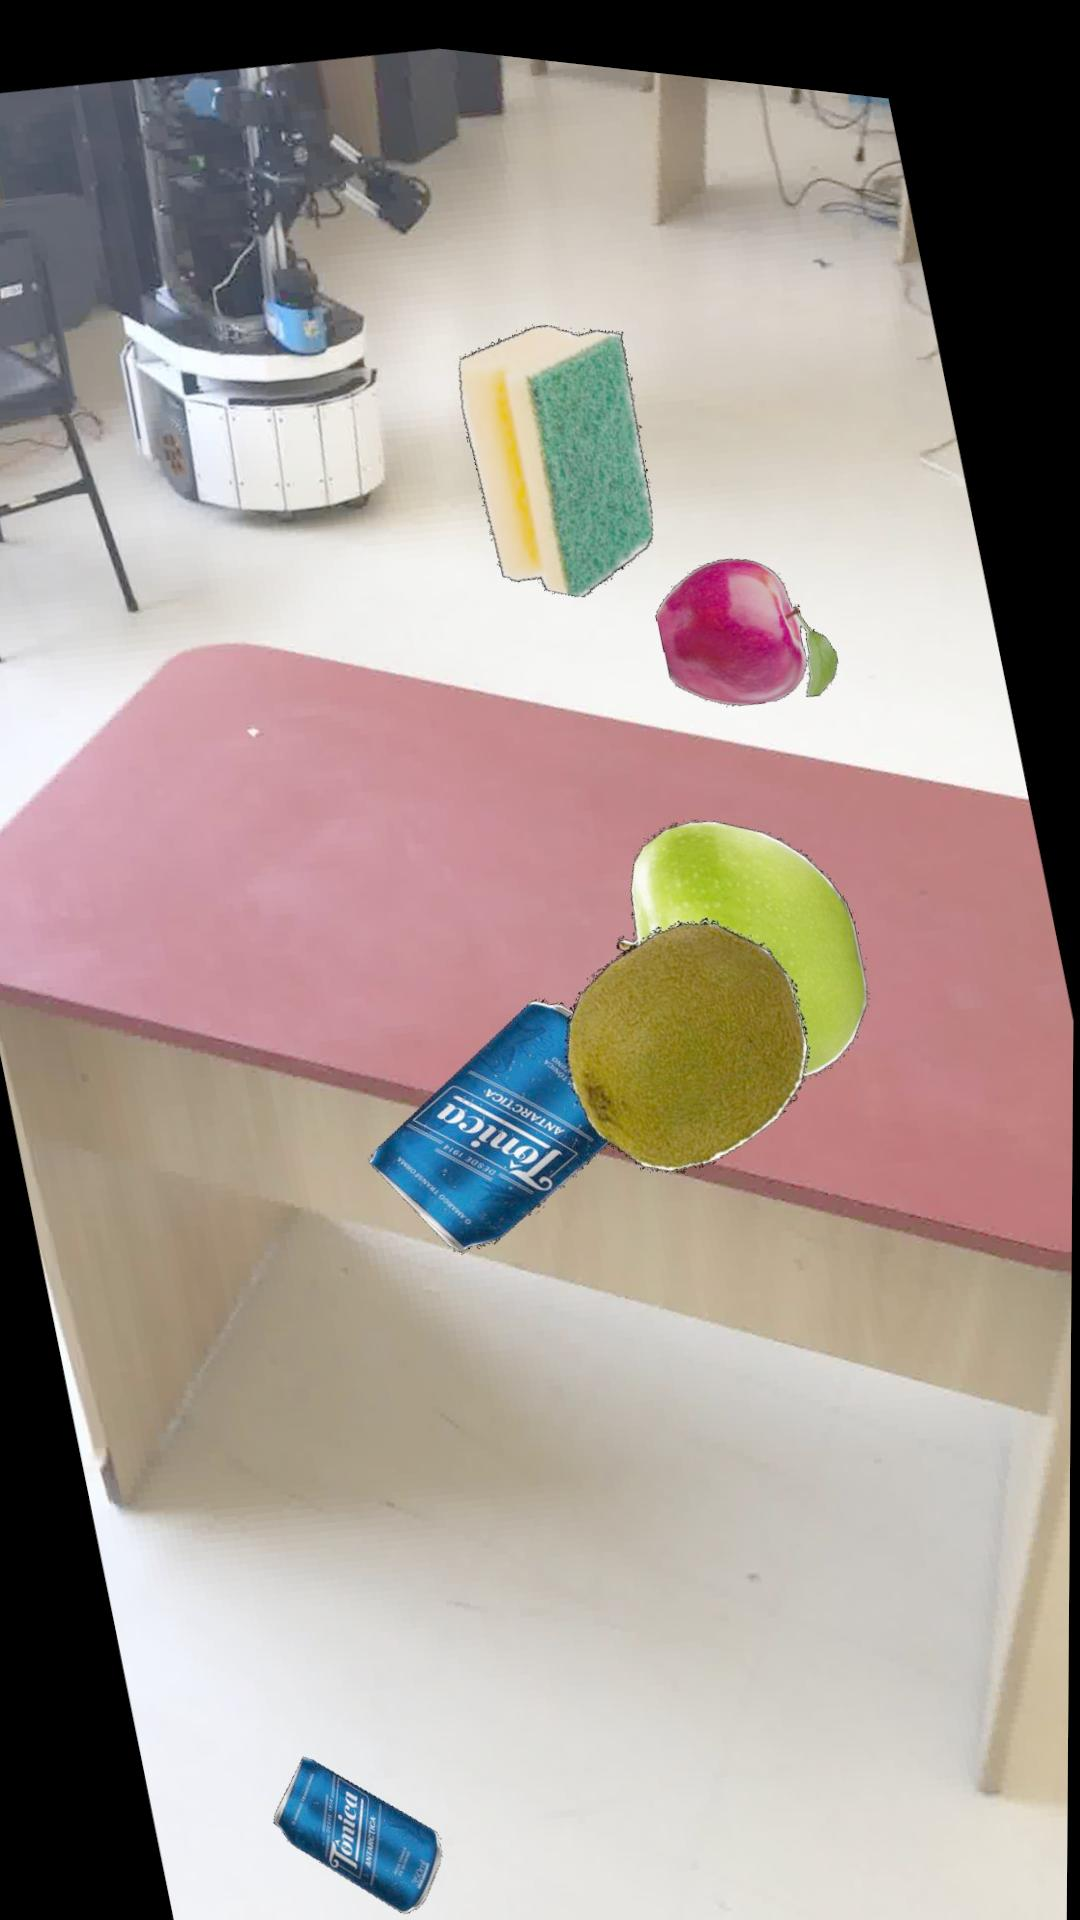apple: (654, 539, 837, 688)
green apple: (616, 803, 868, 1056)
kiwi: (563, 902, 810, 1155)
sponge: (458, 311, 651, 582)
tonic: (368, 985, 608, 1241), (274, 1747, 443, 1902)
